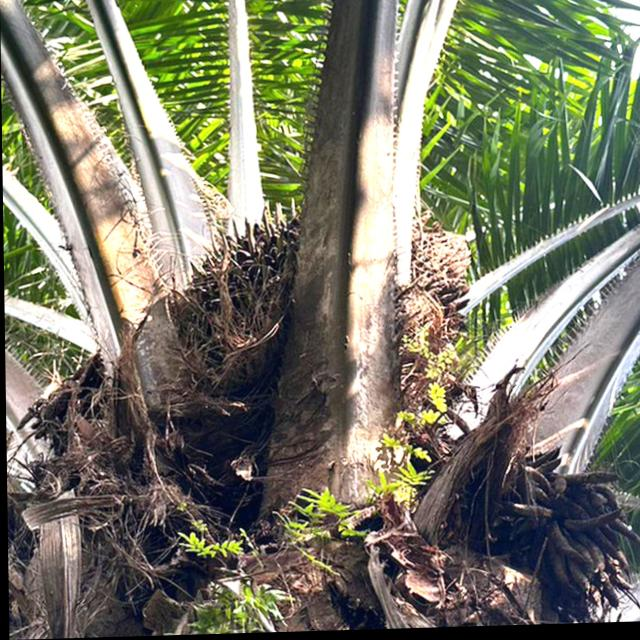unripe: (156, 197, 319, 395)
